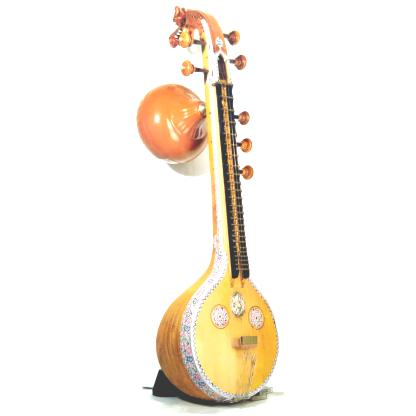Veena: (133, 3, 289, 411)
